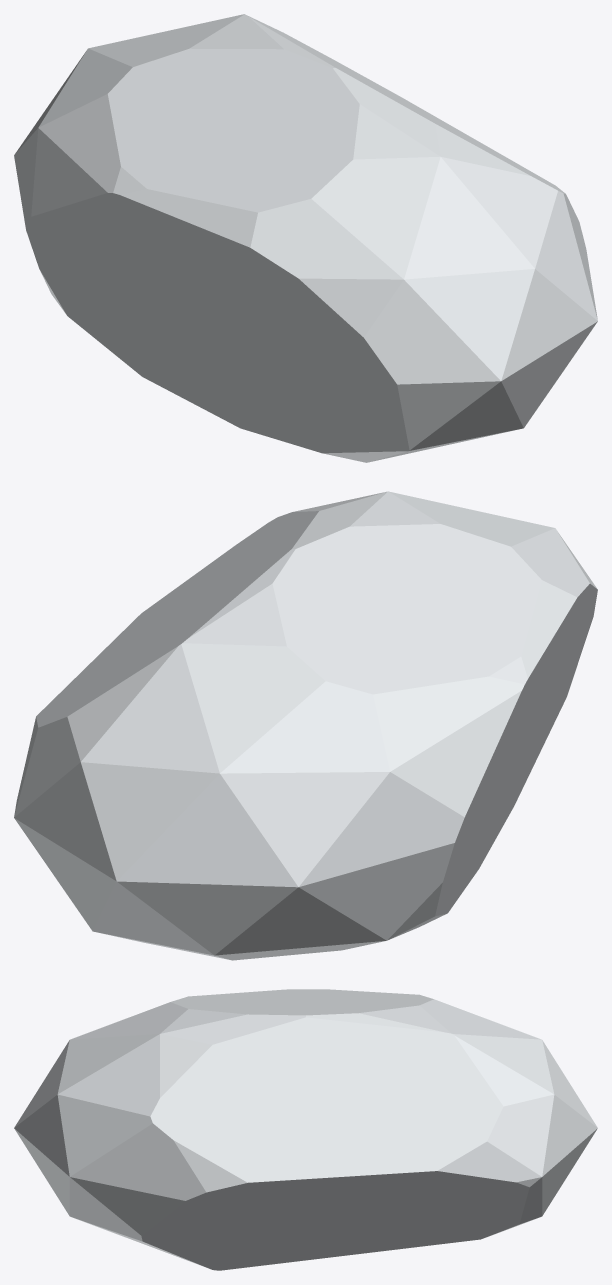
Rendered from Silver.fbx.
The picture shows the model from 3 angles, top to bottom: view 1: azimuth 30°, elevation 25°; view 2: azimuth 150°, elevation 25°; view 3: azimuth 270°, elevation 25°; orthographic projection. The views are drawn at different scales.
Parts seen in each view (by area): view 1: Icosphere; view 2: Icosphere; view 3: Icosphere.
Part boxes in pixels (bbox=[...]): Icosphere: bbox=[14, 14, 597, 462]; Icosphere: bbox=[14, 491, 597, 960]; Icosphere: bbox=[14, 989, 597, 1270].
Size of the model in its own units: 0.4278 by 0.6979 by 0.3058.
